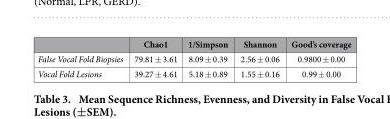table: (36, 37, 350, 79)
table column: (36, 37, 127, 79), (284, 37, 350, 79), (127, 37, 181, 79), (181, 37, 233, 79), (233, 37, 284, 79)
table column header: (36, 37, 350, 51)
table row: (36, 37, 350, 51), (36, 51, 350, 65), (36, 65, 350, 79)
